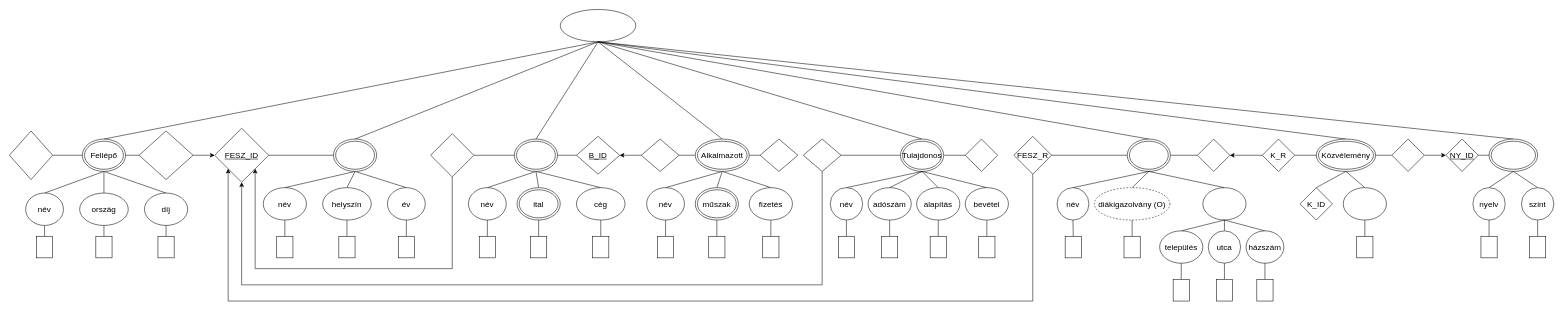
This 1563x315 diagram has some shape labels left out. The shapes that lost their labels are listed below. From the top down, each one's box as (x1, y1, x2, y2) in pixels, then its label:
(560, 9, 636, 42): Fesztivál_SYQ7E2
(9, 130, 53, 180): FEL_ID
(139, 130, 193, 180): FEL_FESZ
(333, 139, 377, 171): Fesztivál
(430, 133, 474, 177): FESZ_B
(514, 139, 558, 171): Bár
(641, 139, 679, 171): B_A
(760, 139, 798, 171): A_ID
(803, 139, 841, 171): FESZ_T
(965, 139, 998, 171): T_ID
(1127, 139, 1170, 171): Résztvevő
(1197, 139, 1230, 171): R_ID
(1391, 139, 1424, 171): K_NY
(1489, 139, 1538, 171): Nyelvtudás
(1202, 187, 1246, 220): lakcím
(1343, 187, 1386, 220): kérdező
